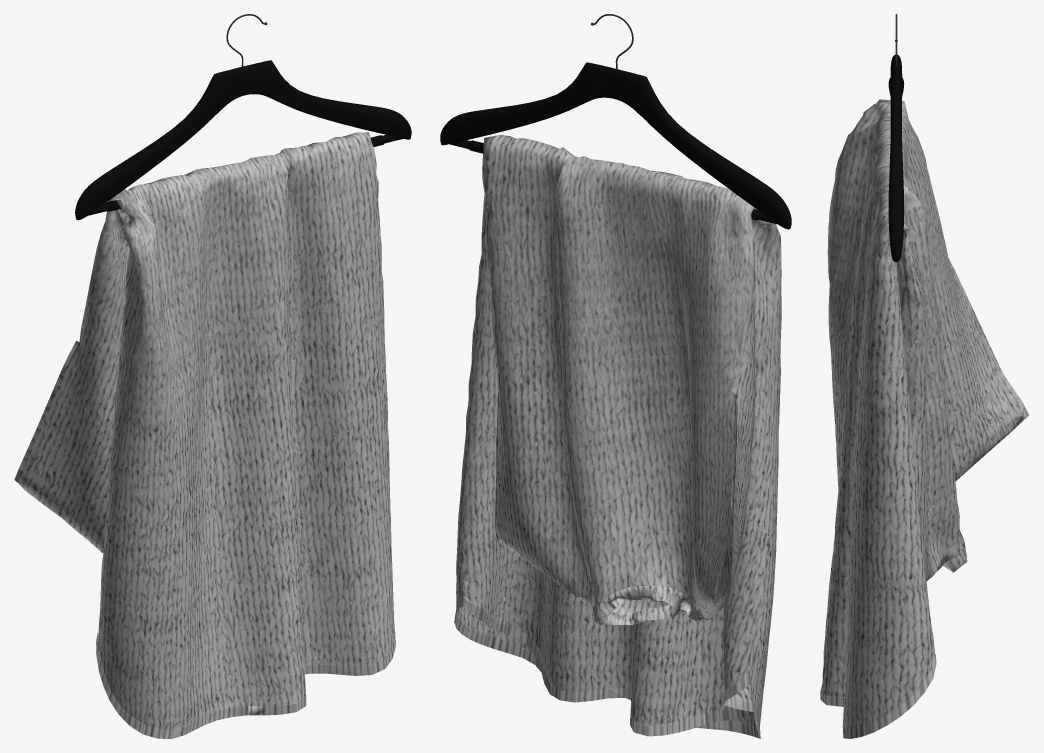
The model's file is Dressed 2.FBX.
3 renders of one model, left to right at view 1: azimuth 30°, elevation 25°; view 2: azimuth 150°, elevation 25°; view 3: azimuth 270°, elevation 25°, orthographic. The views are drawn at different scales.
Parts seen in each view (by area): view 1: dressed, hanger; view 2: dressed, hanger; view 3: dressed, hanger.
Part boxes in pixels (box(x1,y1,x2,y2)): dressed: box(14, 132, 395, 738); hanger: box(75, 14, 411, 220); dressed: box(454, 135, 781, 738); hanger: box(440, 14, 791, 229); dressed: box(820, 99, 1029, 738); hanger: box(888, 14, 904, 262).
Bounding box in the file's own units: 44.67 × 86.64 × 23.93.
3 materials, 1 textured.
